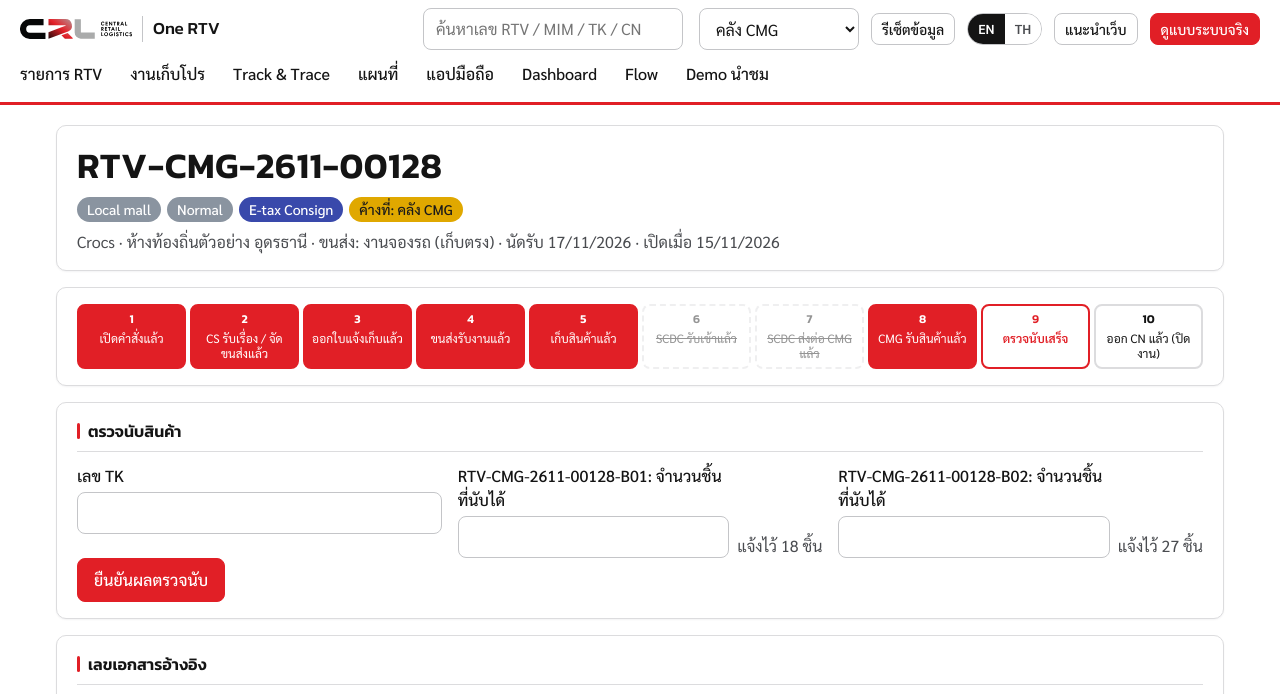
Scenario: count mismatch puts the RTV on hold for Brand
The image size is (1280, 694).
Type "TK777" into the field labelled "เลข TK". click: (259, 513)
box: [77, 492, 442, 534]
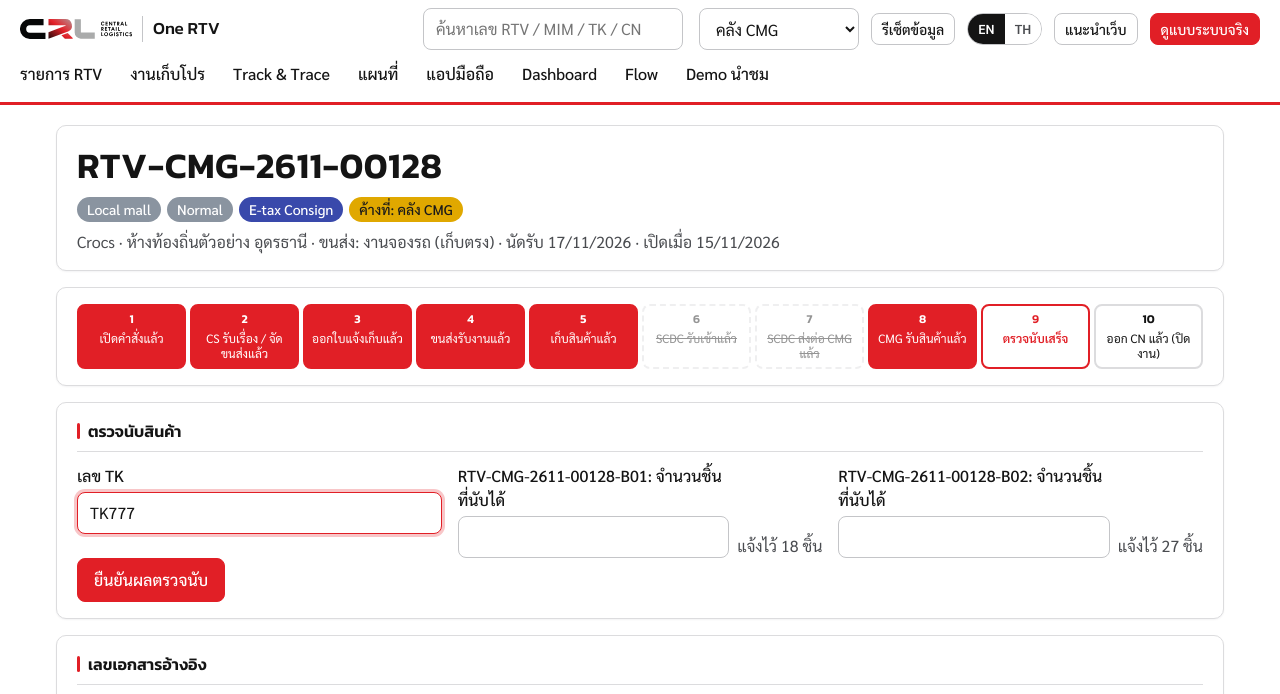
Type "17" into the number field labelled "RTV-CMG-2611-00128-B01: จำนวนชิ้นที่นับได้". click: (593, 537)
box: [458, 516, 729, 558]
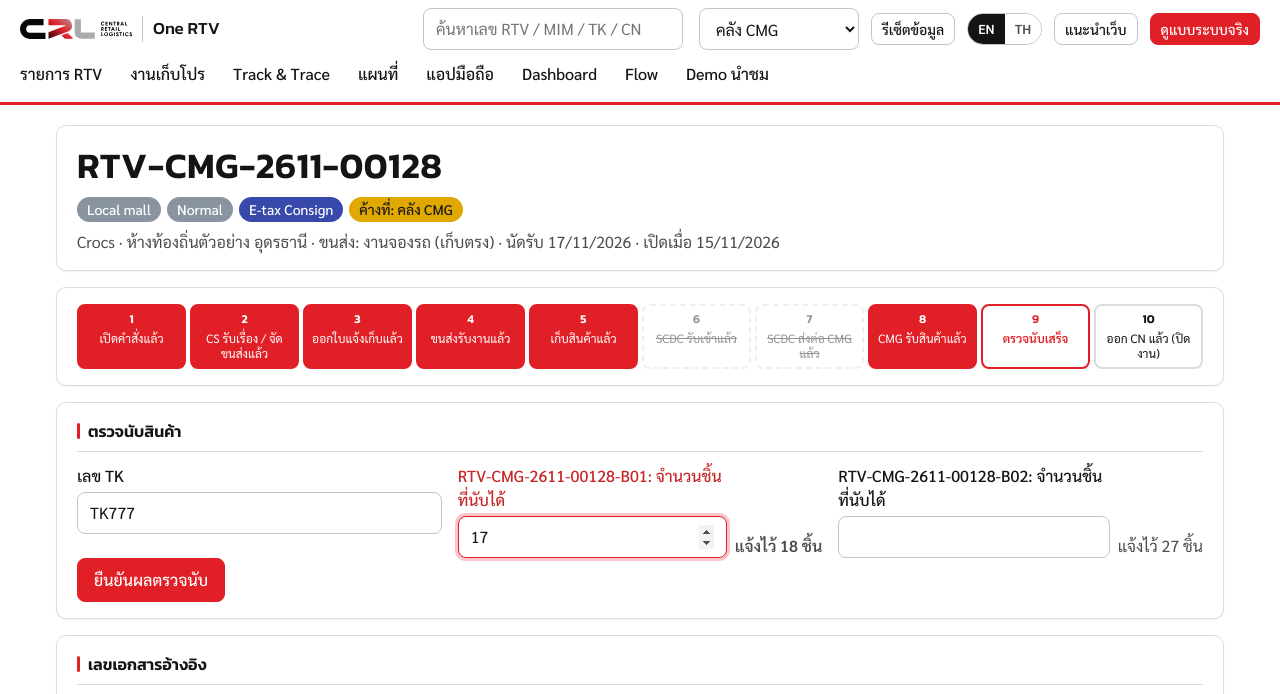
Type "27" into the number field labelled "RTV-CMG-2611-00128-B02: จำนวนชิ้นที่นับได้". click: (974, 537)
box: [838, 516, 1110, 558]
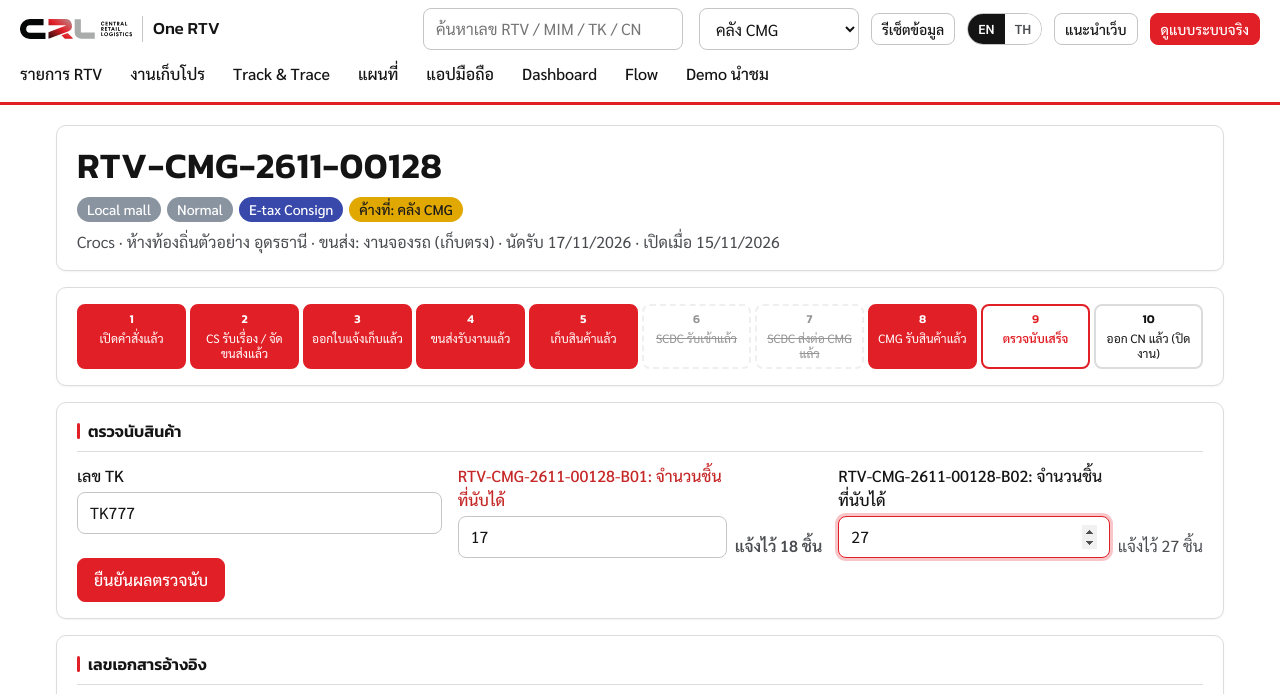
Check: the element with test id "count-row" has class "count-diff", box [458, 464, 822, 558]
Click the button "ยืนยันผลตรวจนับ". click: click(151, 580)
box: [77, 558, 225, 602]
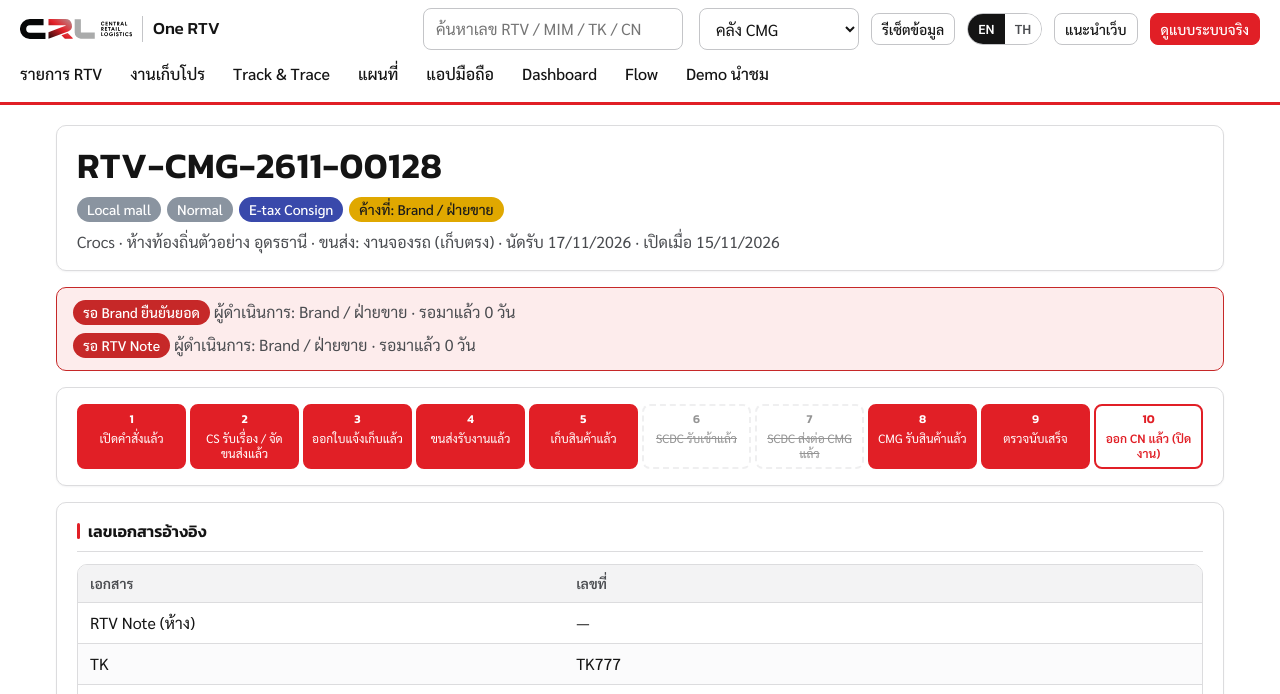
Check: the text "รอ Brand ยืนยันยอด" is shown, box [73, 300, 210, 325]
